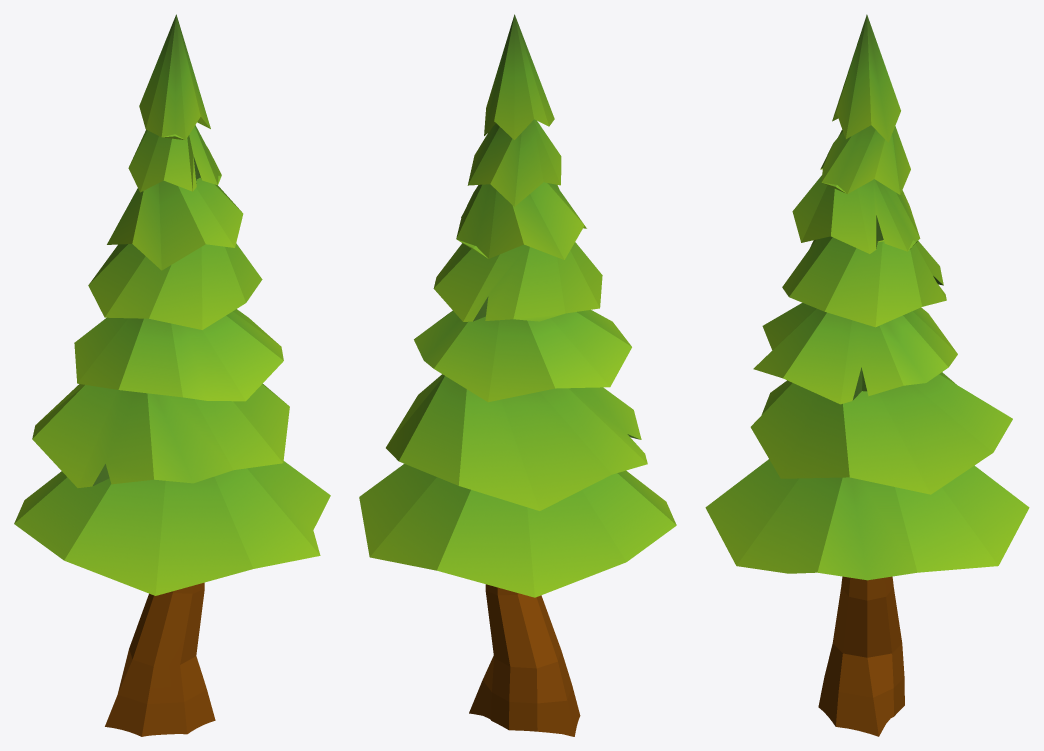
Rendered from treeModel.obj.
The picture shows the model from 3 angles, left to right: view 1: azimuth 30°, elevation 25°; view 2: azimuth 150°, elevation 25°; view 3: azimuth 270°, elevation 25°; orthographic projection.
Parts seen in each view (by area): view 1: Cylinder_Cylinder.001; view 2: Cylinder_Cylinder.001; view 3: Cylinder_Cylinder.001.
Part boxes in pixels (bbox=[...]): Cylinder_Cylinder.001: bbox=[14, 14, 330, 736]; Cylinder_Cylinder.001: bbox=[359, 14, 676, 736]; Cylinder_Cylinder.001: bbox=[705, 14, 1029, 736].
Size of the model in its own units: 1.36 by 3.42 by 1.43.
Materials: 2 (2 with a texture image).
